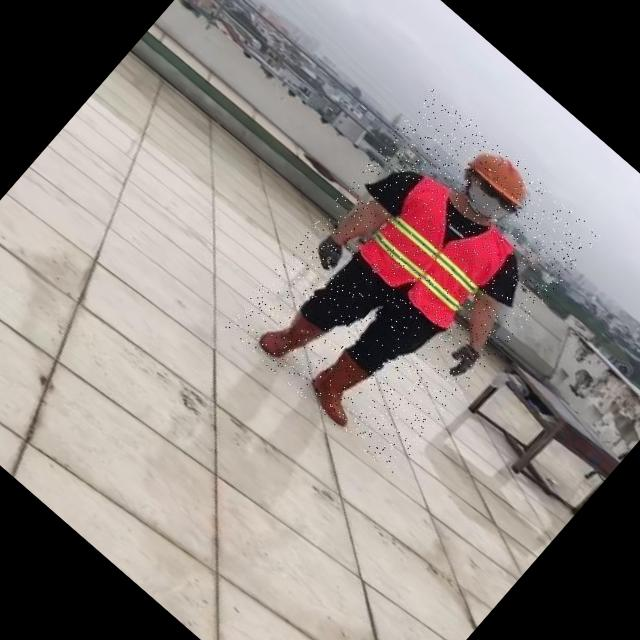hard_hat: (460, 136, 542, 214)
safety_vest: (353, 170, 518, 333)
vehicle: (223, 87, 603, 476)
work_boots: (302, 347, 386, 432), (255, 300, 330, 376)
